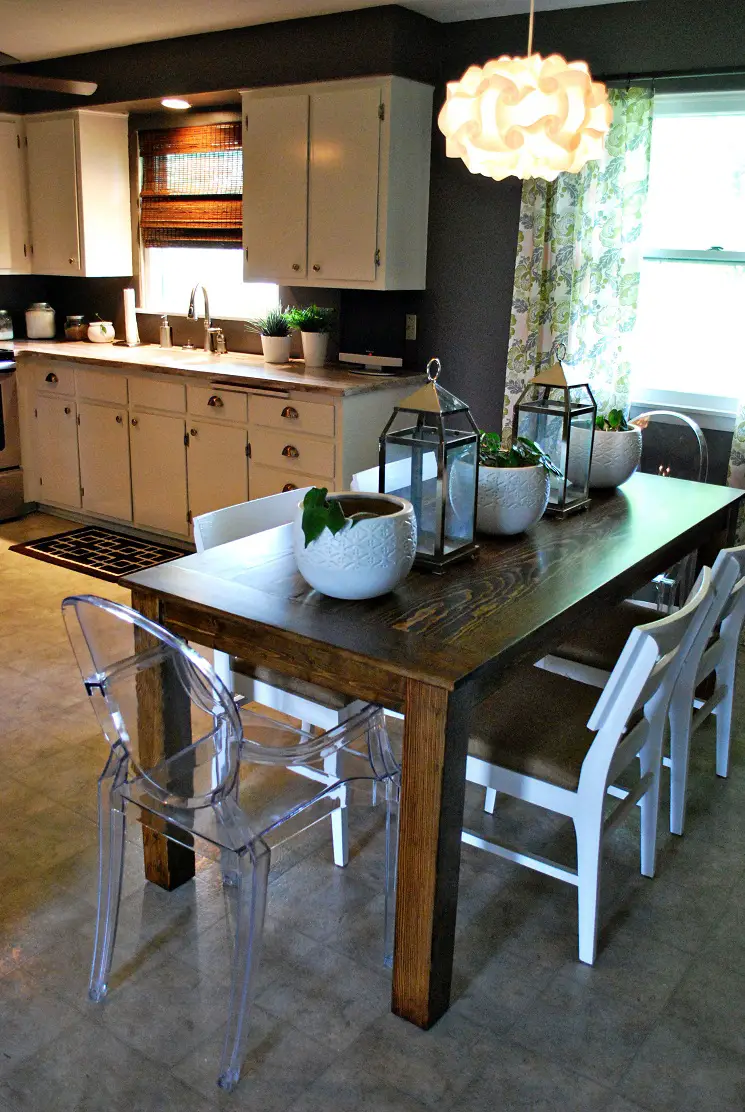diningtable: (53, 369, 745, 1089)
pottedplant: (298, 484, 426, 604), (452, 431, 555, 540), (557, 412, 647, 492), (252, 313, 294, 370), (289, 314, 328, 375)
